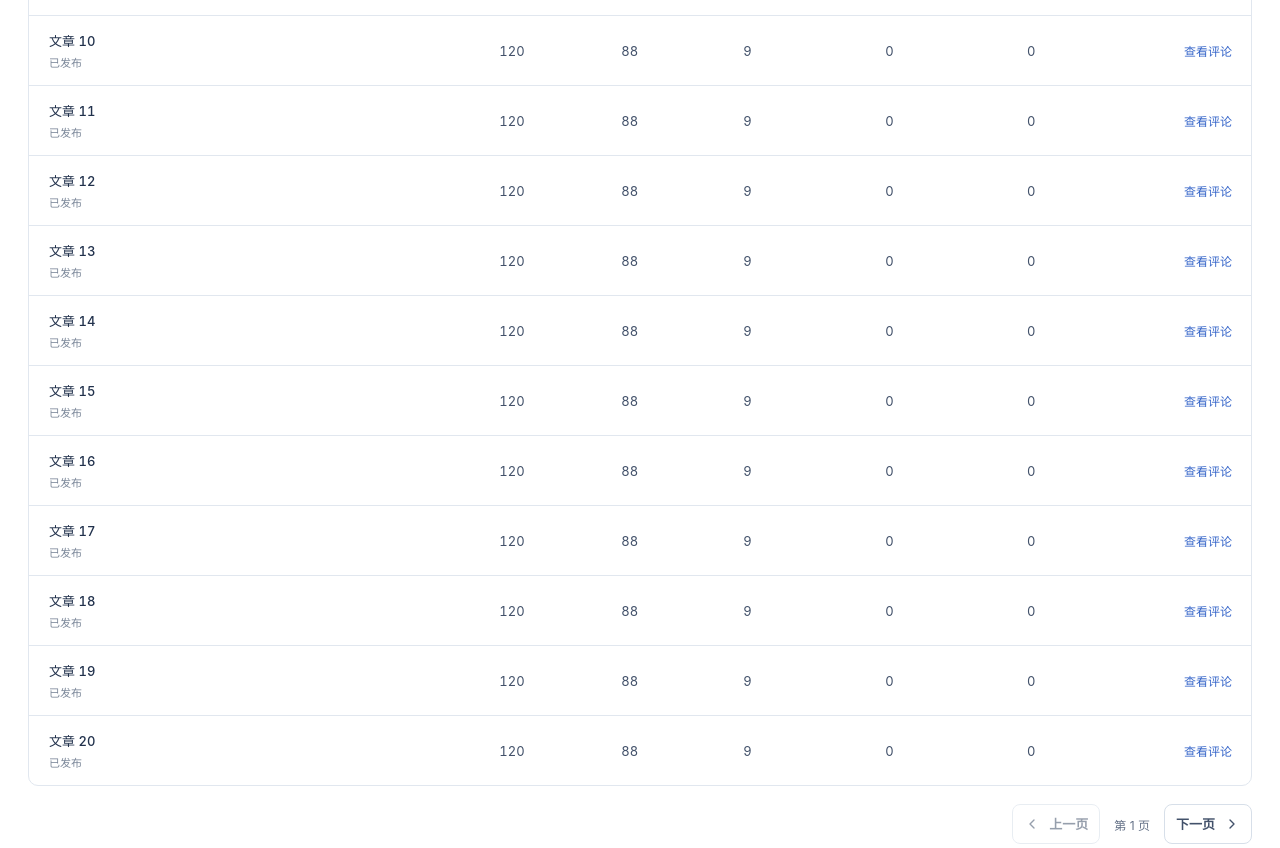
Test: EngagementPage › paginates article stats and scopes comments to a selected article
(page scrolled)
Click the button with aria-label "下一页文章" at (1208, 824), box [1164,804,1252,844]
(page scrolled)
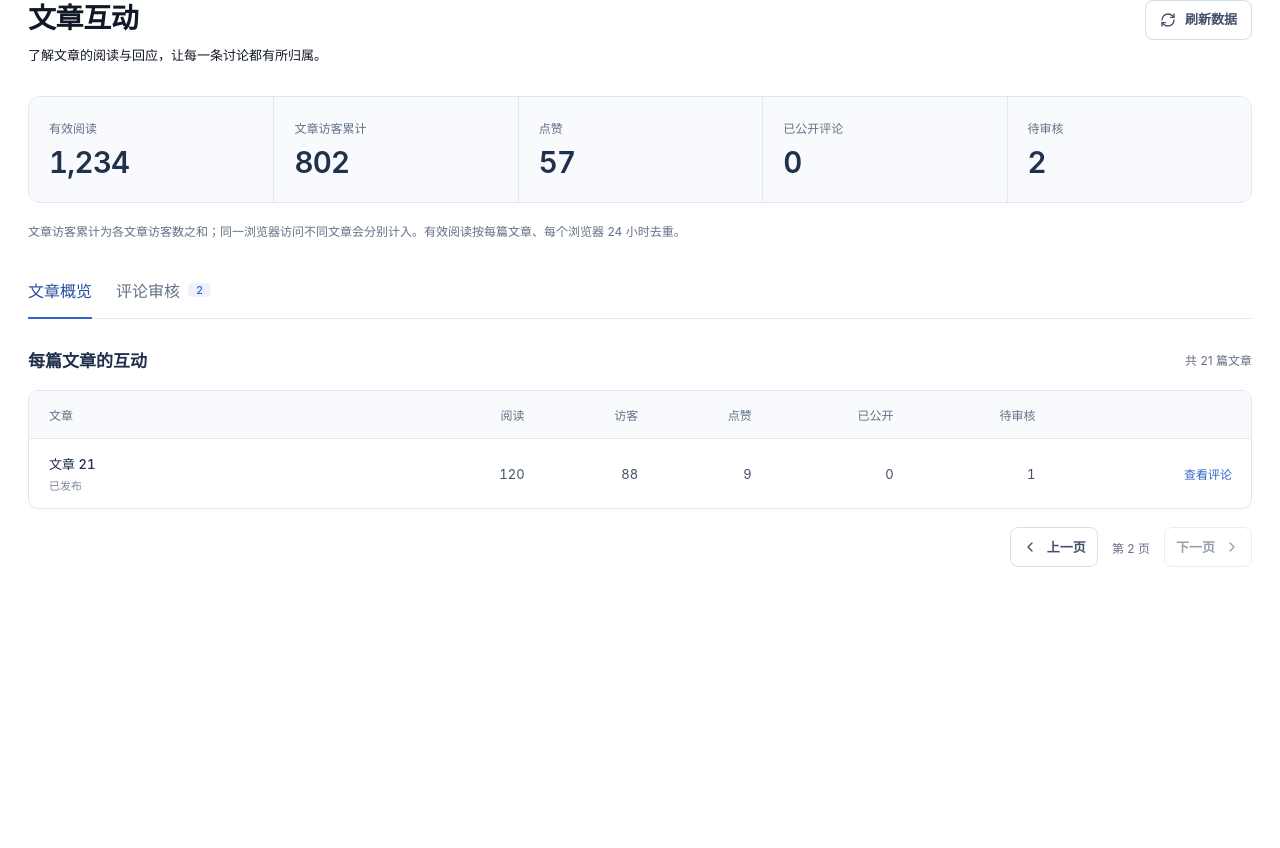
Expected: the link "文章 21" is shown, [49,456,95,472]
Click the button "查看评论" at (1208, 474), box [1177,456,1239,492]
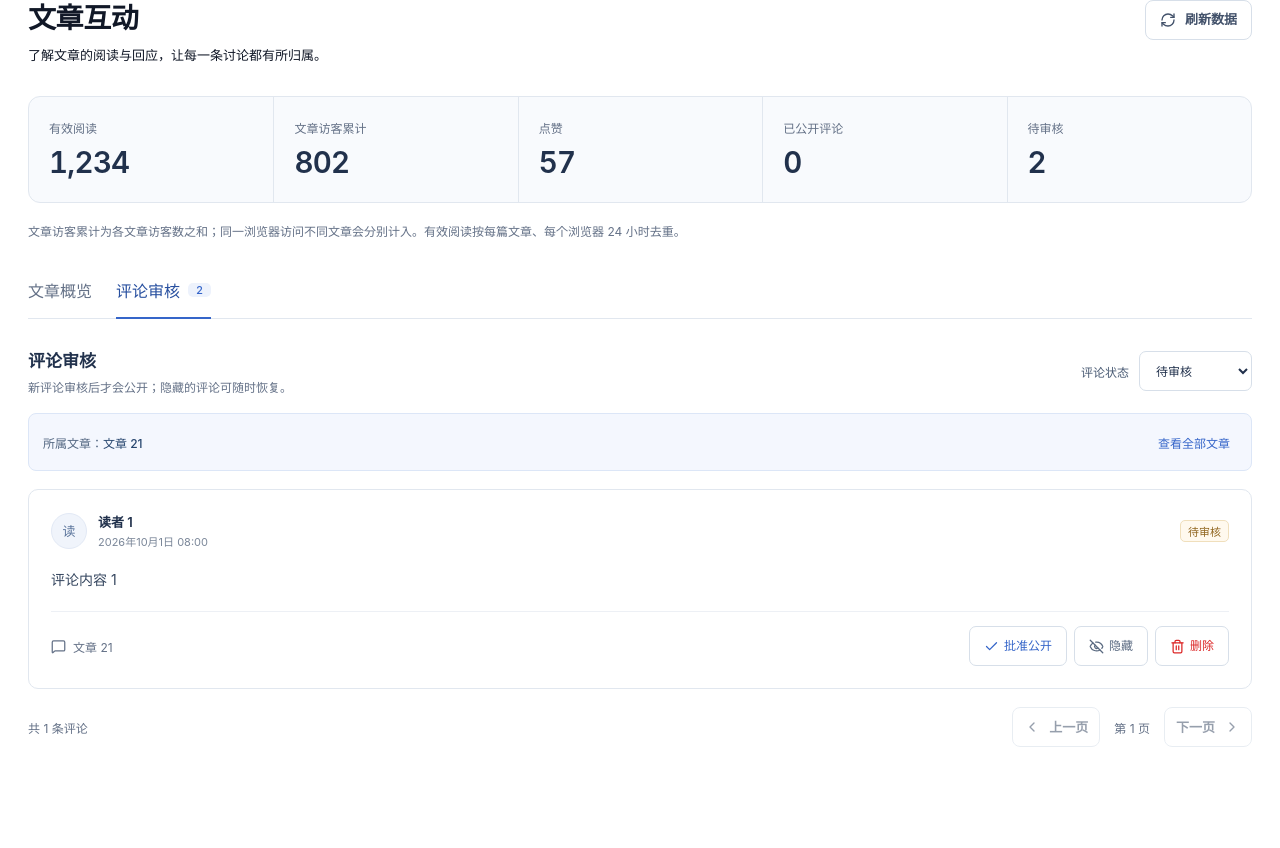
Expected: the text "评论内容 2" is not shown
Expected: the text "评论内容 1" is shown, [51,571,117,588]
Click the button "查看全部文章" at (1194, 442), box [1151,424,1237,460]
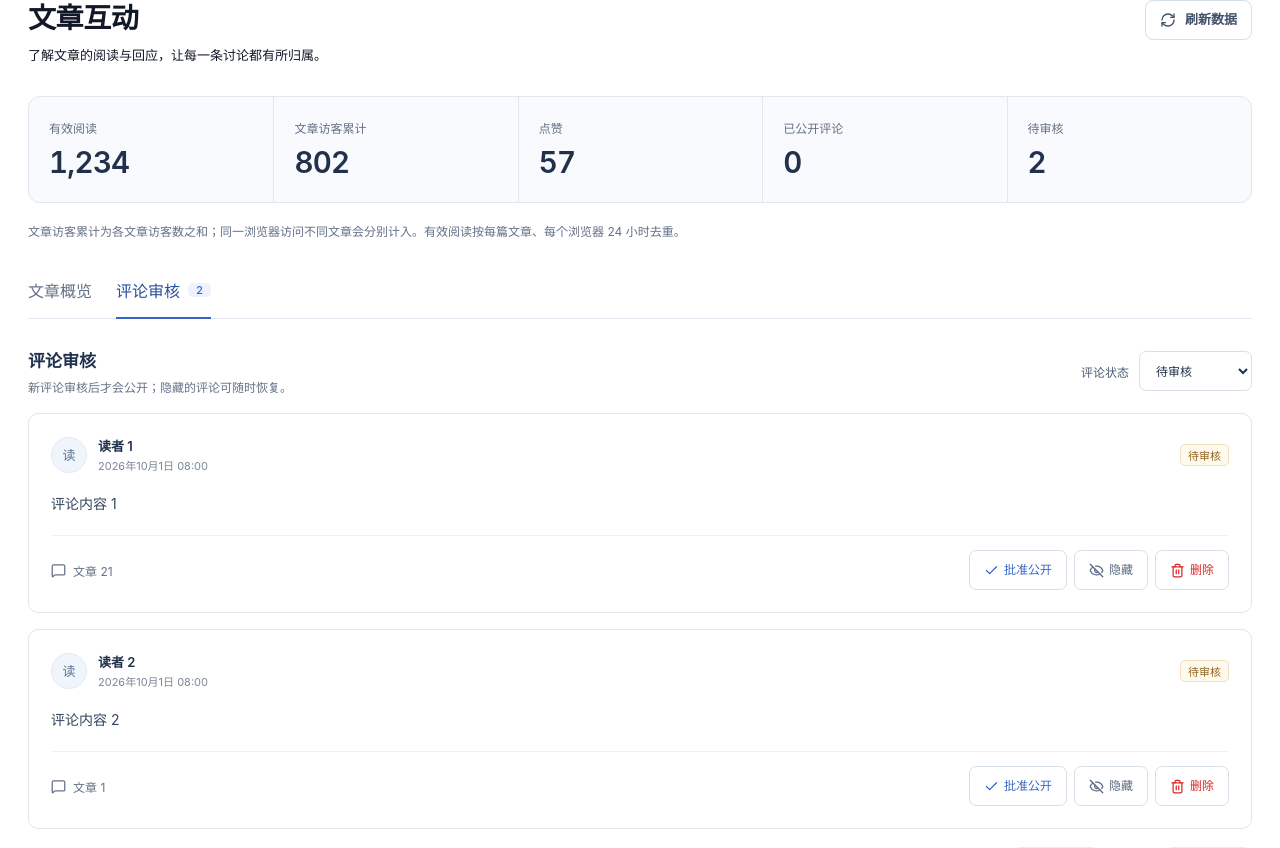
Expected: the text "评论内容 2" is shown, [51,711,120,728]
